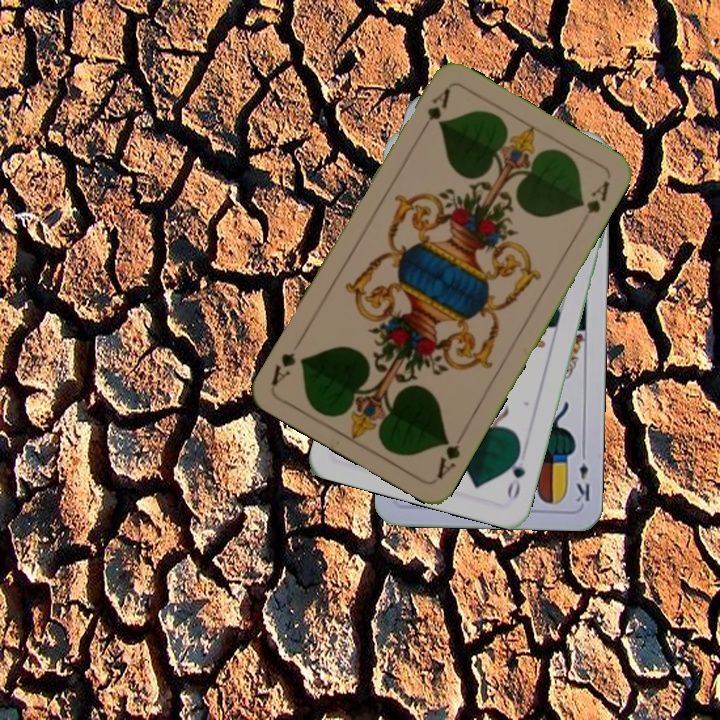EK: (572, 446, 593, 505)
GA: (432, 428, 469, 482), (416, 84, 453, 137)
GO: (503, 444, 528, 502)
